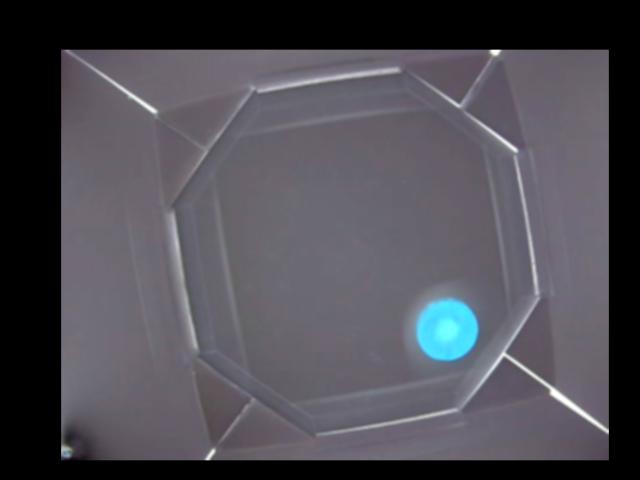Carrot: (418, 299, 478, 357)
